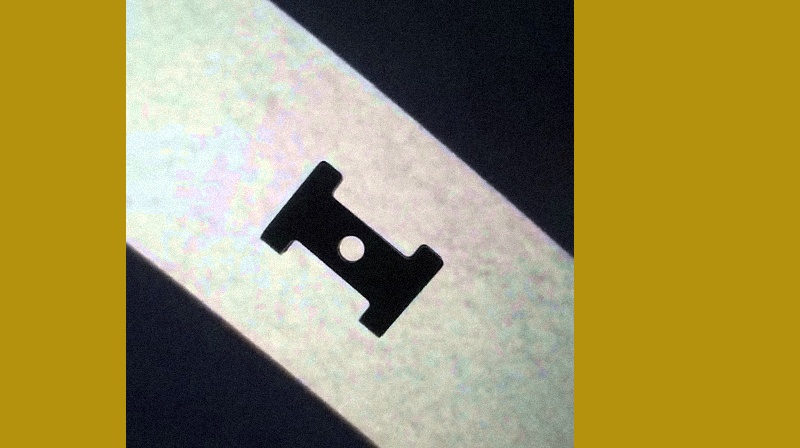O002: (256, 153, 447, 339)
